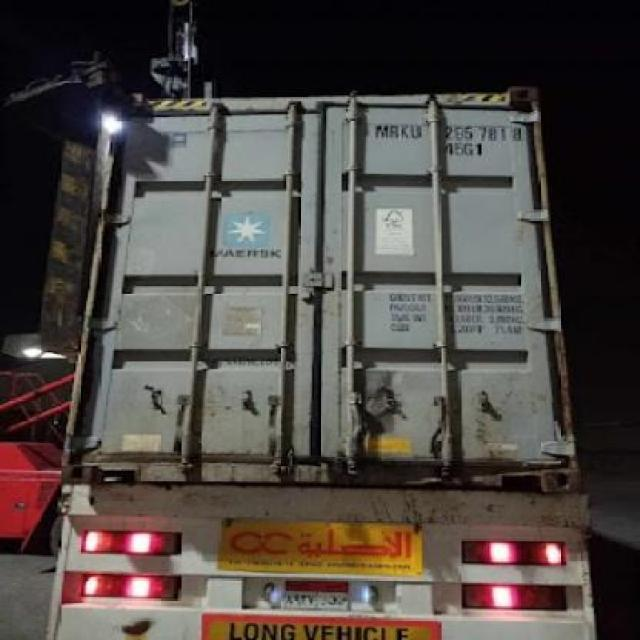ISO: (446, 142, 489, 160)
container_number: (375, 124, 520, 142)
